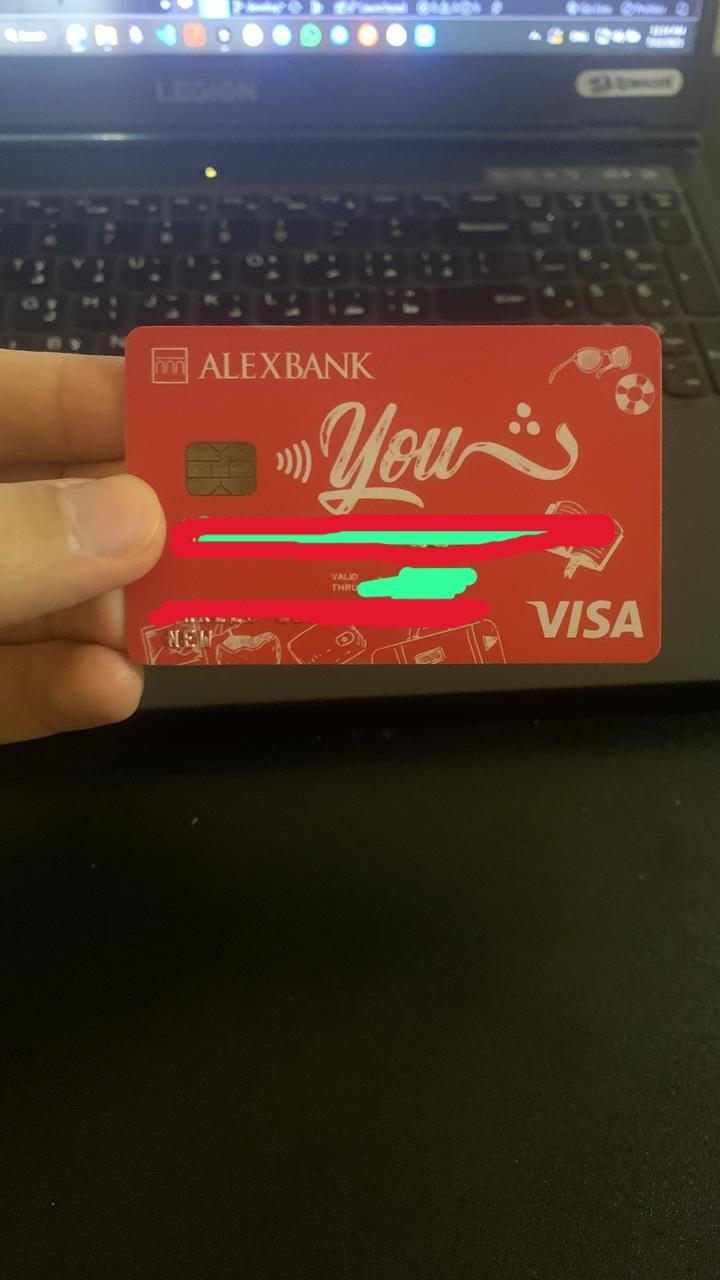payment_card: (128, 326, 662, 663)
